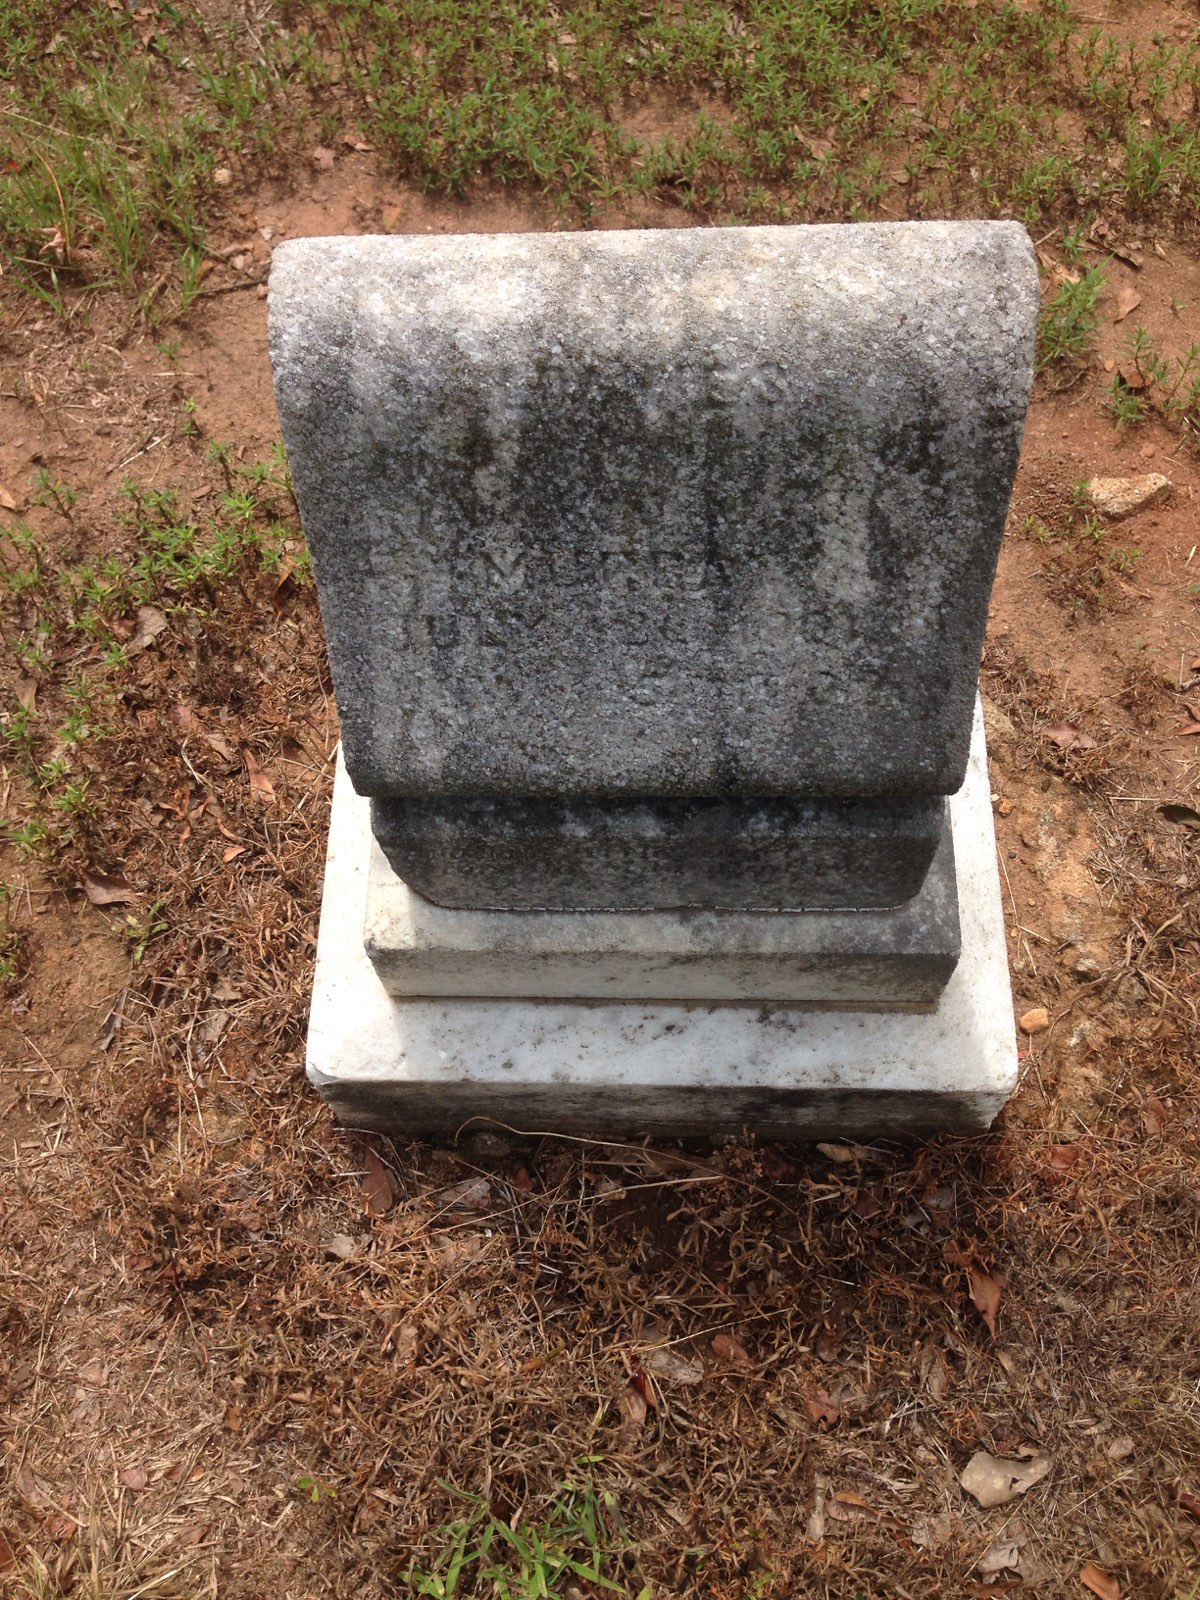upright: (270, 226, 1036, 1119)
